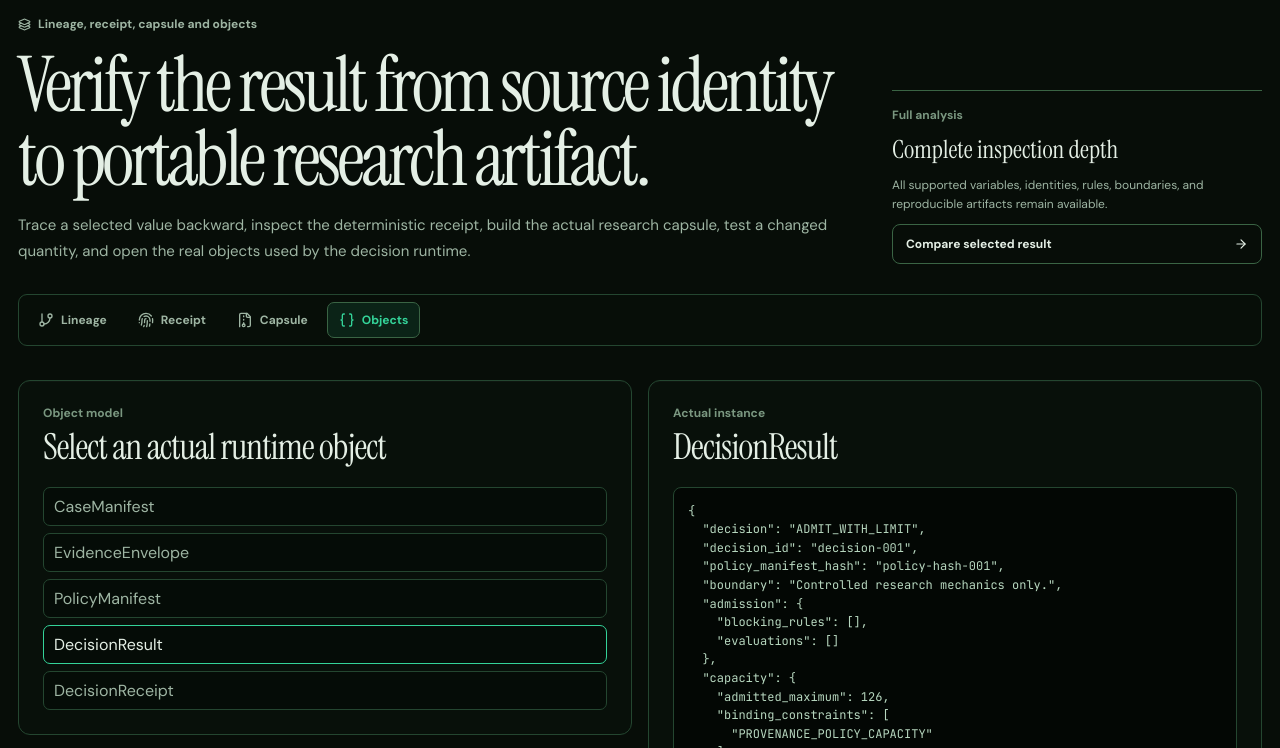
Test: paired platform surfaces › exposes actual runtime objects in the consolidated Verification Hub
Expected: the heading "DecisionResult" is shown, [673,424,838,470]
Click the button "EvidenceEnvelope" at point(122, 552), box [43,533,607,572]
(page scrolled)
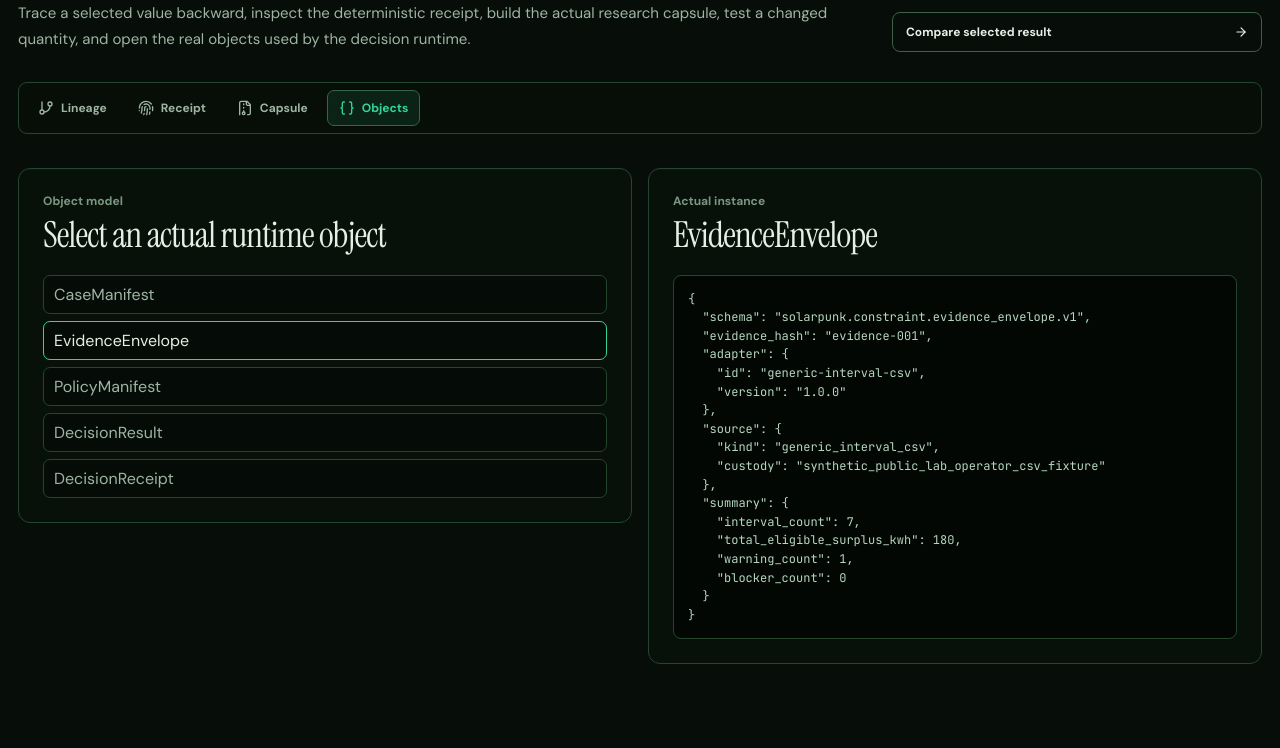
Expected: the text "evidence-001" is shown, [688,291,1106,623]
